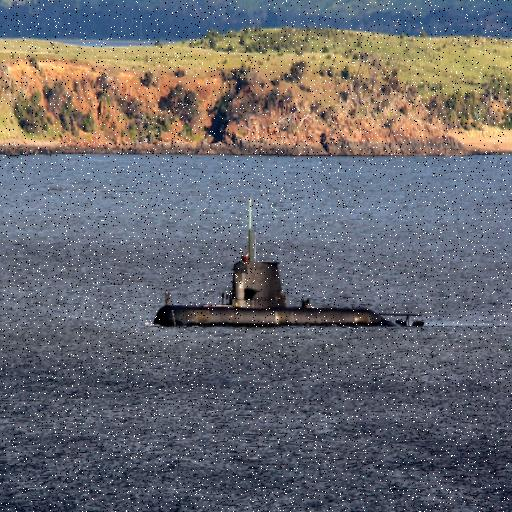submarine: (146, 193, 425, 328)
